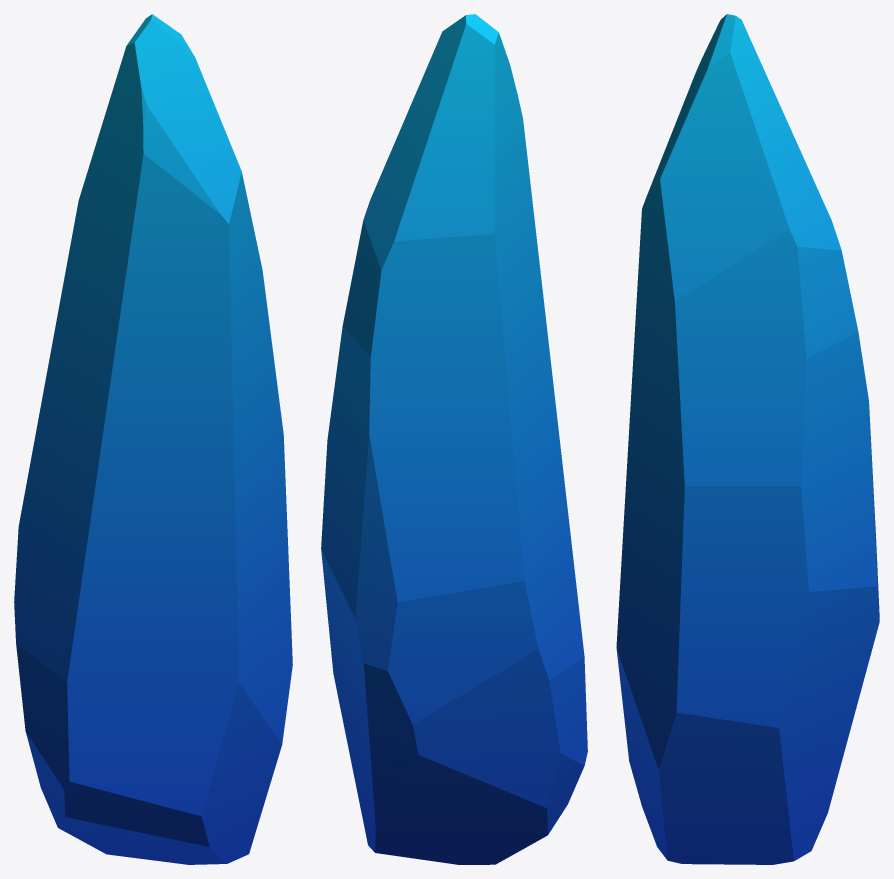
Rendered from crystal_8.glb.
3 renders of one model, left to right at view 1: azimuth 30°, elevation 25°; view 2: azimuth 150°, elevation 25°; view 3: azimuth 270°, elevation 25°, orthographic.
Parts seen in each view (by area): view 1: crystal_8; view 2: crystal_8; view 3: crystal_8.
Part boxes in pixels (x1,y1,x2,y2): crystal_8: (14, 14, 292, 864); crystal_8: (321, 14, 587, 864); crystal_8: (616, 14, 879, 864).
Bounding box in the file's own units: 4.05 × 14.66 × 4.23.
Materials: 1 (1 with a texture image).
